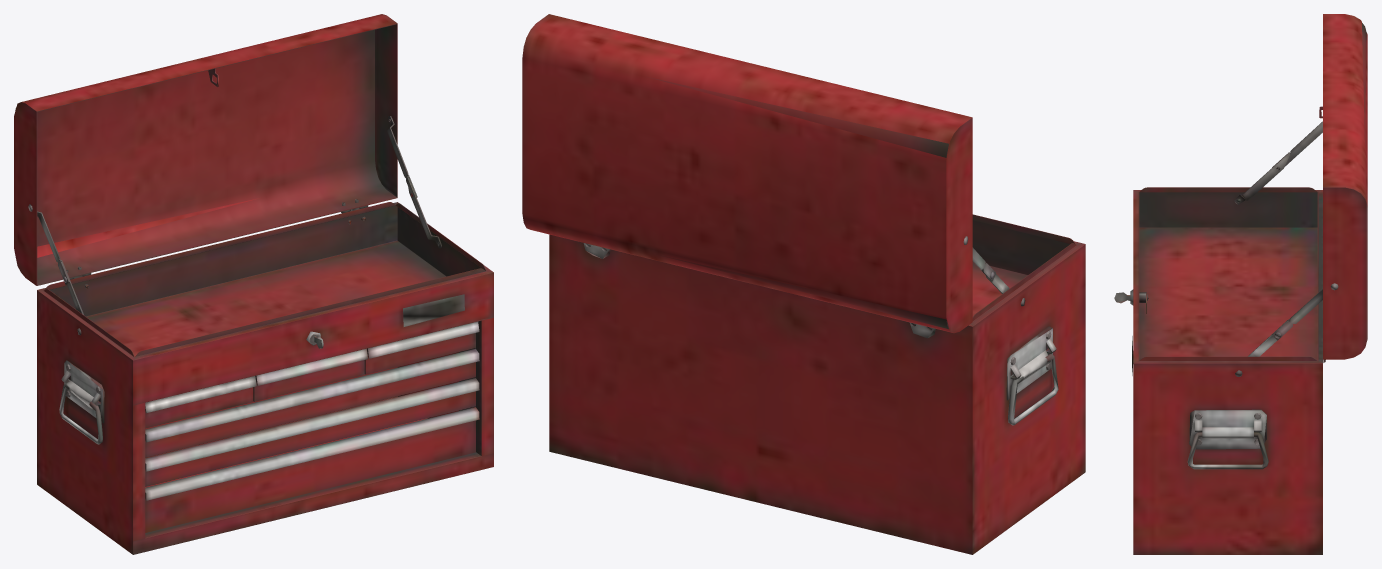
File: metal_tool_chest.glb
3 renders of one model, left to right at view 1: azimuth 30°, elevation 25°; view 2: azimuth 150°, elevation 25°; view 3: azimuth 270°, elevation 25°, orthographic. The views are drawn at different scales.
Visible parts, largest first — view 1: metal_tool_chest_chest, metal_tool_chest_lid, metal_tool_chest_hinge_lid, metal_tool_chest_hinge_chest, metal_tool_chest_handle_left; view 2: metal_tool_chest_chest, metal_tool_chest_lid, metal_tool_chest_handle_left; view 3: metal_tool_chest_chest, metal_tool_chest_lid, metal_tool_chest_hinge_lid, metal_tool_chest_hinge_chest, metal_tool_chest_handle_right.
Part boxes in pixels (bbox=[...]): metal_tool_chest_chest: bbox=[37, 202, 493, 554]; metal_tool_chest_lid: bbox=[14, 14, 397, 285]; metal_tool_chest_hinge_lid: bbox=[28, 116, 417, 285]; metal_tool_chest_hinge_chest: bbox=[59, 175, 441, 335]; metal_tool_chest_handle_left: bbox=[59, 383, 102, 444]; metal_tool_chest_chest: bbox=[549, 214, 1085, 554]; metal_tool_chest_lid: bbox=[522, 14, 972, 333]; metal_tool_chest_handle_left: bbox=[1008, 354, 1058, 425]; metal_tool_chest_chest: bbox=[1132, 187, 1325, 554]; metal_tool_chest_lid: bbox=[1319, 14, 1367, 359]; metal_tool_chest_hinge_lid: bbox=[1272, 121, 1338, 340]; metal_tool_chest_hinge_chest: bbox=[1234, 152, 1290, 376]; metal_tool_chest_handle_right: bbox=[1187, 432, 1268, 469].
Size of the model in its own units: 0.6847 by 0.6518 by 0.4072.
1 material, 1 textured.
